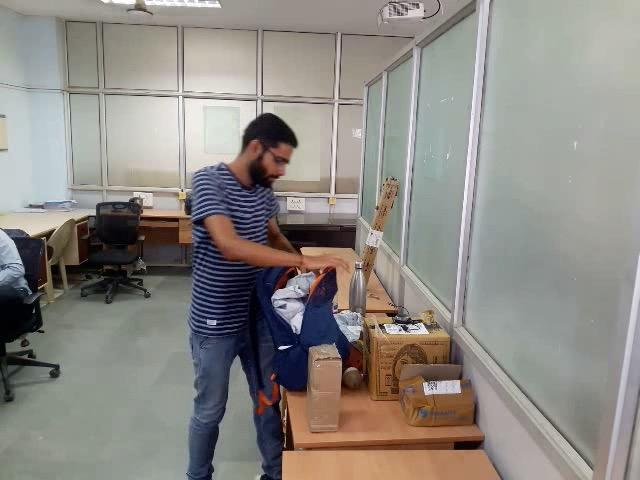shoplifting: (176, 243, 389, 400)
